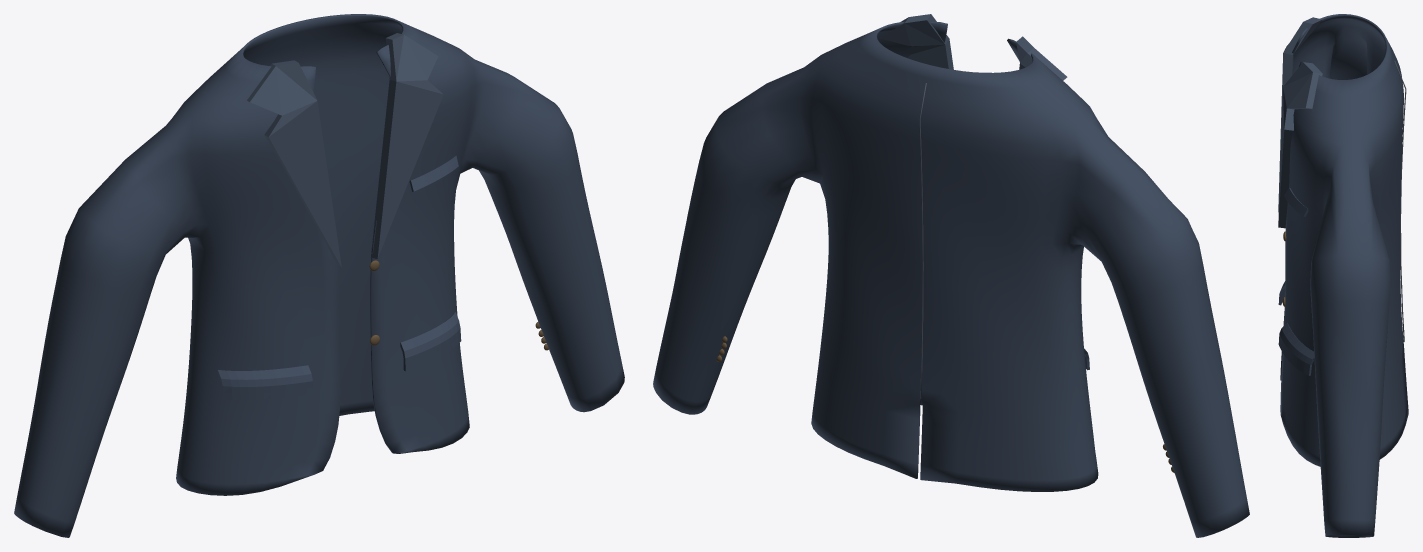
3 views of the same model, side by side, from view 1: azimuth 30°, elevation 25°; view 2: azimuth 150°, elevation 25°; view 3: azimuth 270°, elevation 25° (orthographic). The views are drawn at different scales.
Parts seen in each view (by area): view 1: Continuous open-front tailored torso and cuff sleeves, Left real notched lapel, Right real notched lapel, Left pocket flap, Right pocket flap; view 2: Continuous open-front tailored torso and cuff sleeves, Right real notched lapel; view 3: Continuous open-front tailored torso and cuff sleeves, Right real notched lapel, Right pocket flap, Left real notched lapel, Center-back tailored seam, Breast welt pocket raised lip.
Part boxes in pixels (x1,y1,x2,y2): Continuous open-front tailored torso and cuff sleeves: (14,14,624,537); Left real notched lapel: (247,60,341,267); Right real notched lapel: (371,33,443,258); Left pocket flap: (218,365,313,399); Right pocket flap: (400,312,461,371); Continuous open-front tailored torso and cuff sleeves: (653,21,1249,537); Right real notched lapel: (879,14,953,69); Continuous open-front tailored torso and cuff sleeves: (1280,14,1408,537); Right real notched lapel: (1278,62,1322,228); Right pocket flap: (1278,323,1314,375); Left real notched lapel: (1278,17,1322,211); Center-back tailored seam: (1394,60,1406,341); Breast welt pocket raised lip: (1284,188,1308,216).
Size of the model in its own units: 0.9769 by 0.6802 by 0.2081.
